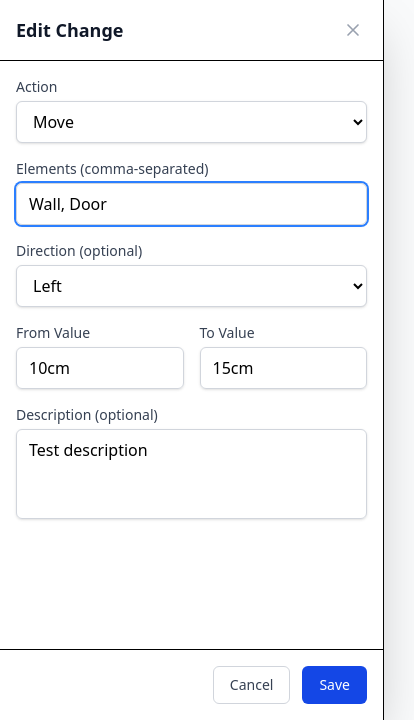
Test: ChangeEditor › should show validation error when elements is empty
Clear the field labelled "Elements (comma-separated)": (192, 204) [16,183,367,225]
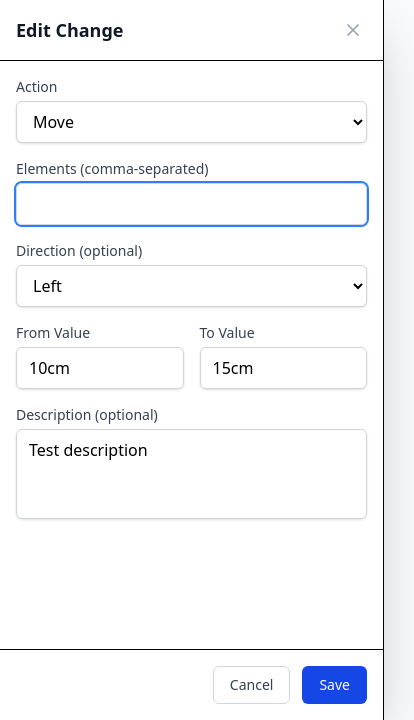
Click the button "Save": (335, 685) [302,666,367,704]
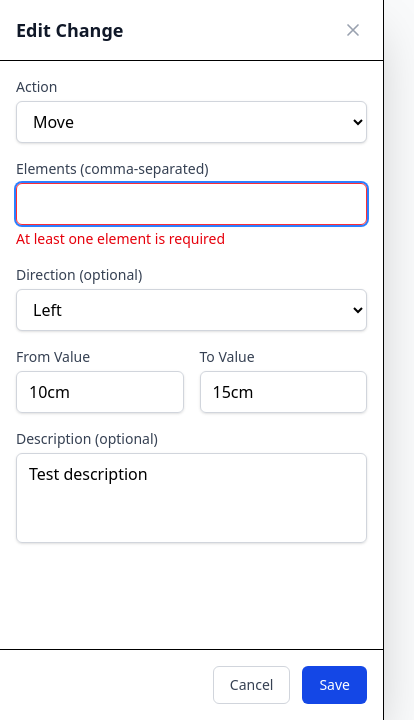
Check: the text "At least one element is required" is shown, box [16,229,225,248]
